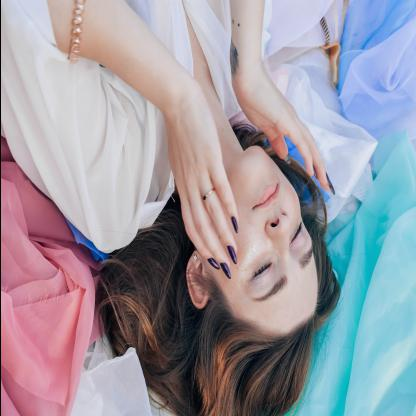Eye: (244, 255, 275, 287), (288, 222, 303, 247)
Mouth: (250, 182, 280, 211)
Nose: (264, 209, 289, 257)
